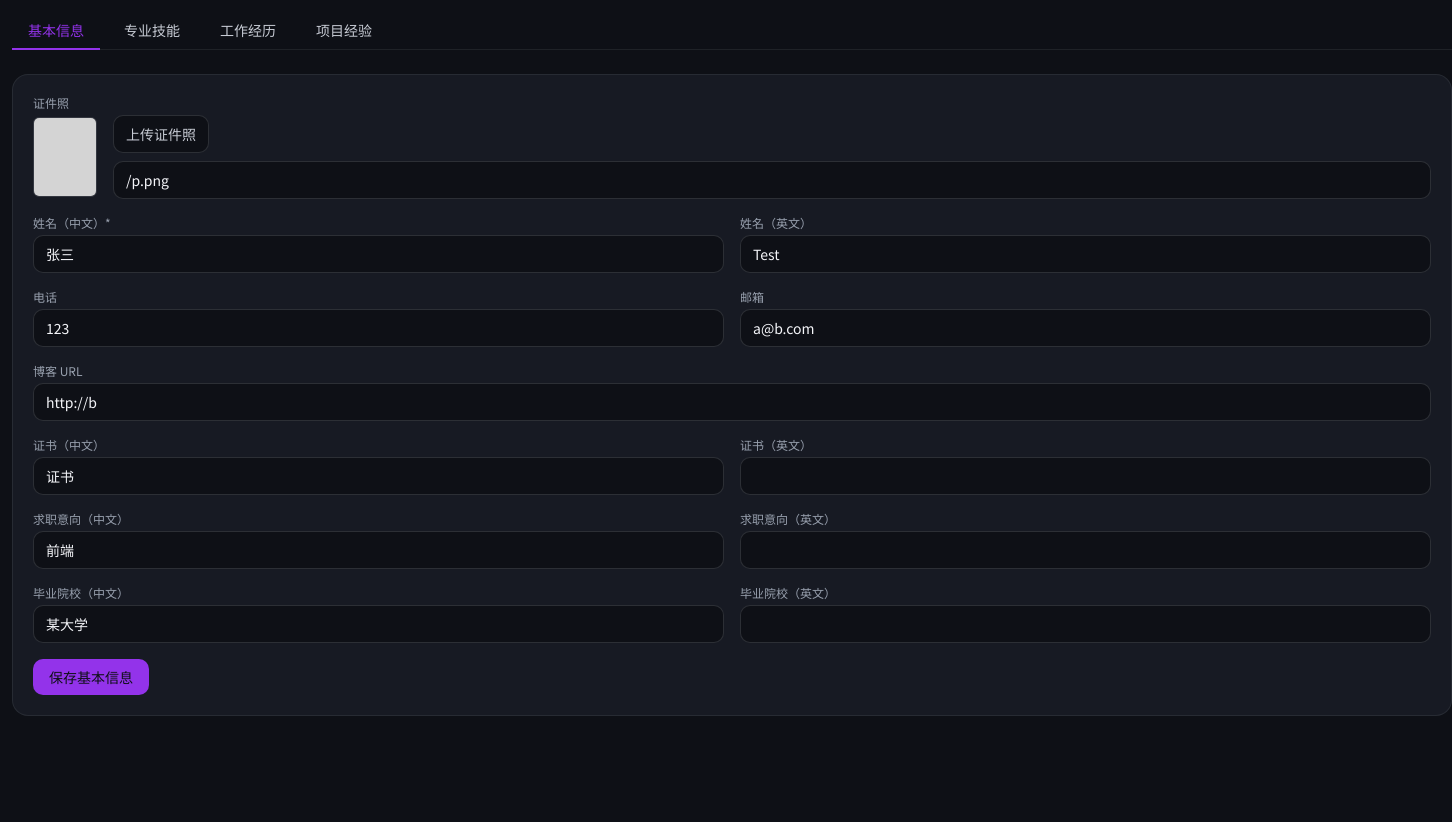
Scenario: ResumeManager › 点击新增工作经历展示表单字段
The image size is (1452, 822).
Step 1. Click the button "工作经历" → (248, 31), box 204,12 -> 292,50
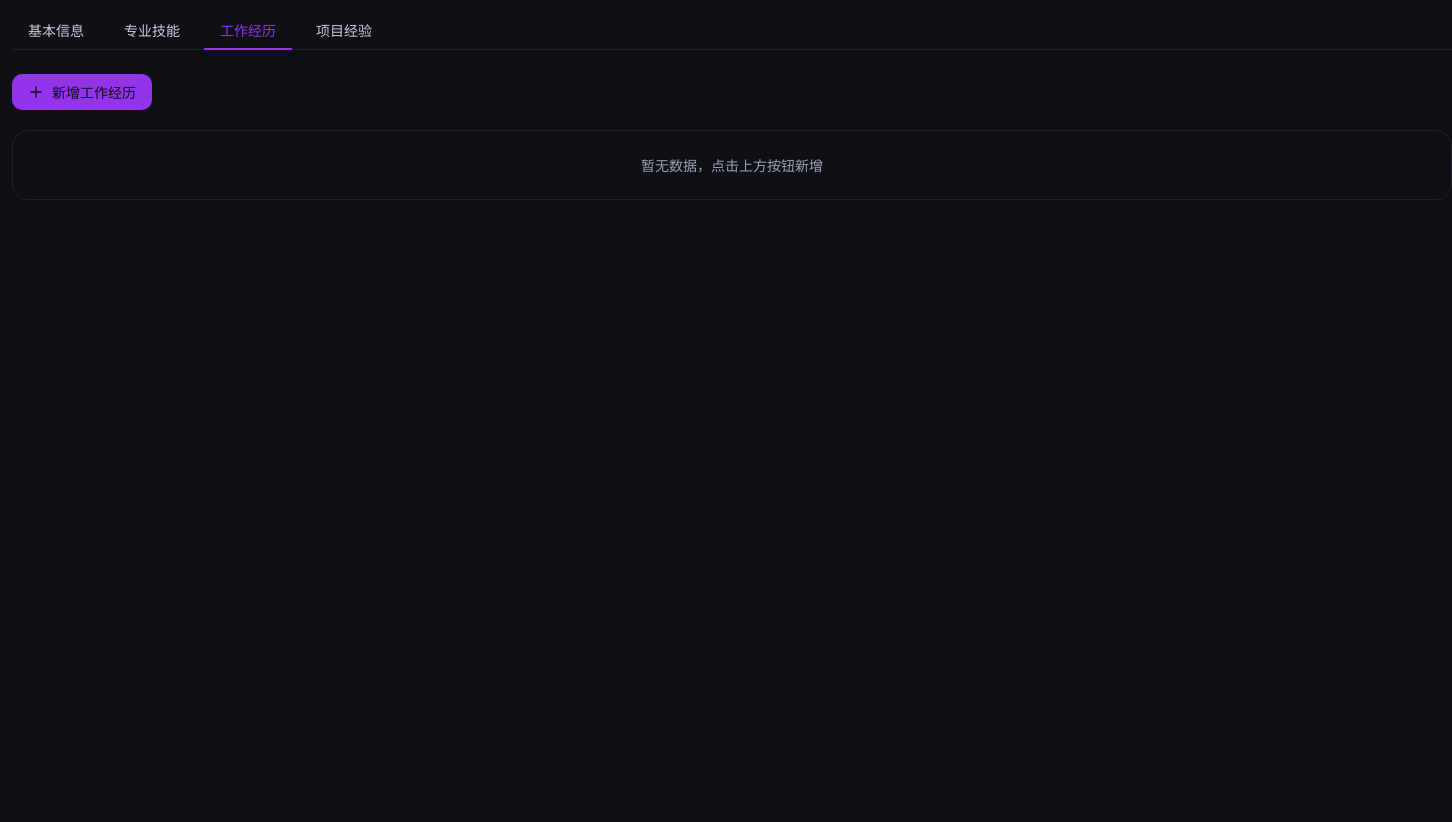
Step 2. Click the button "新增工作经历" → (82, 92), box 12,74 -> 152,110
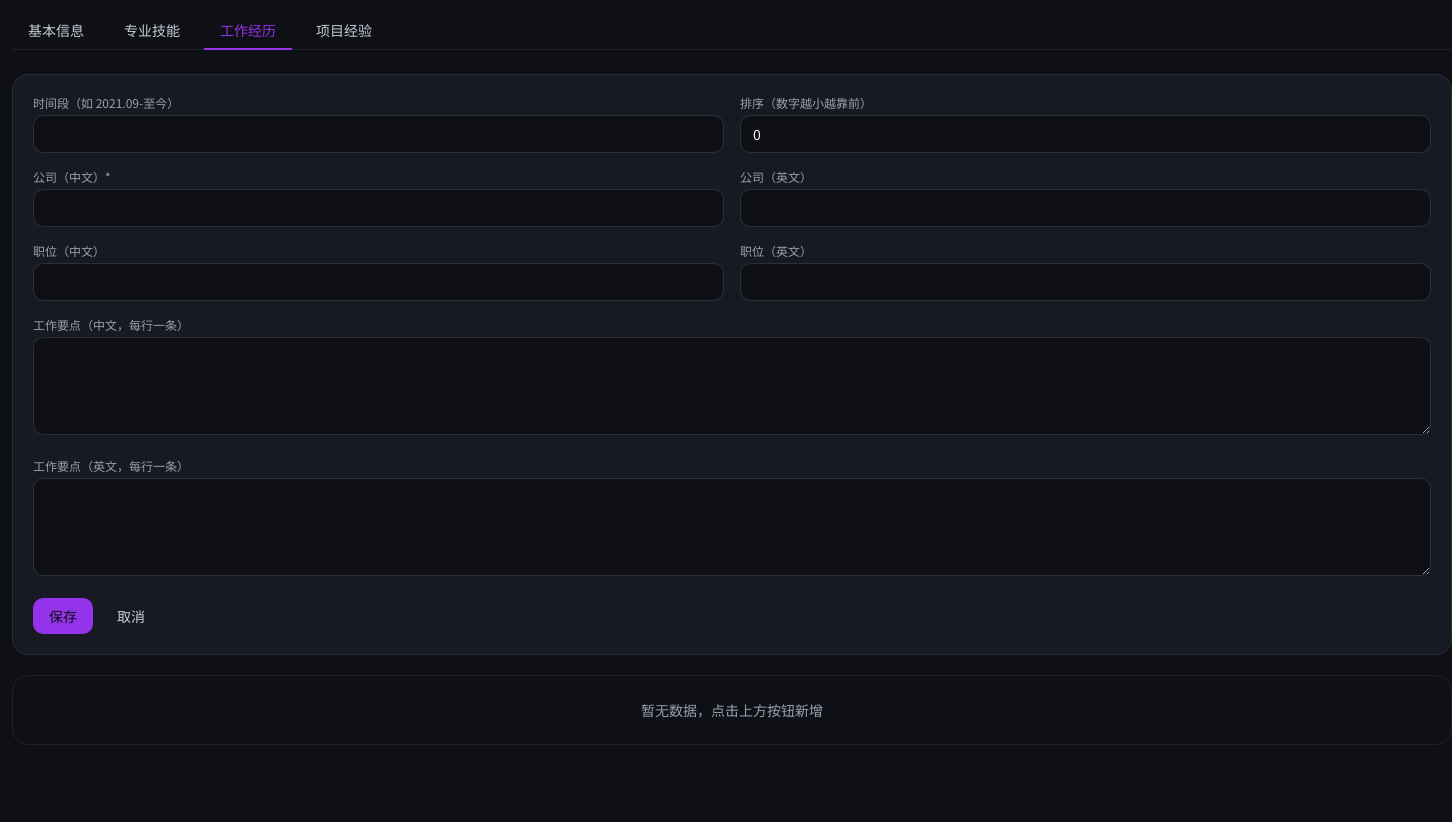
Now the text "公司（中文）*" is shown, box 33,168 -> 111,185
Now the text "工作要点（中文，每行一条）" is shown, box 33,316 -> 189,333
